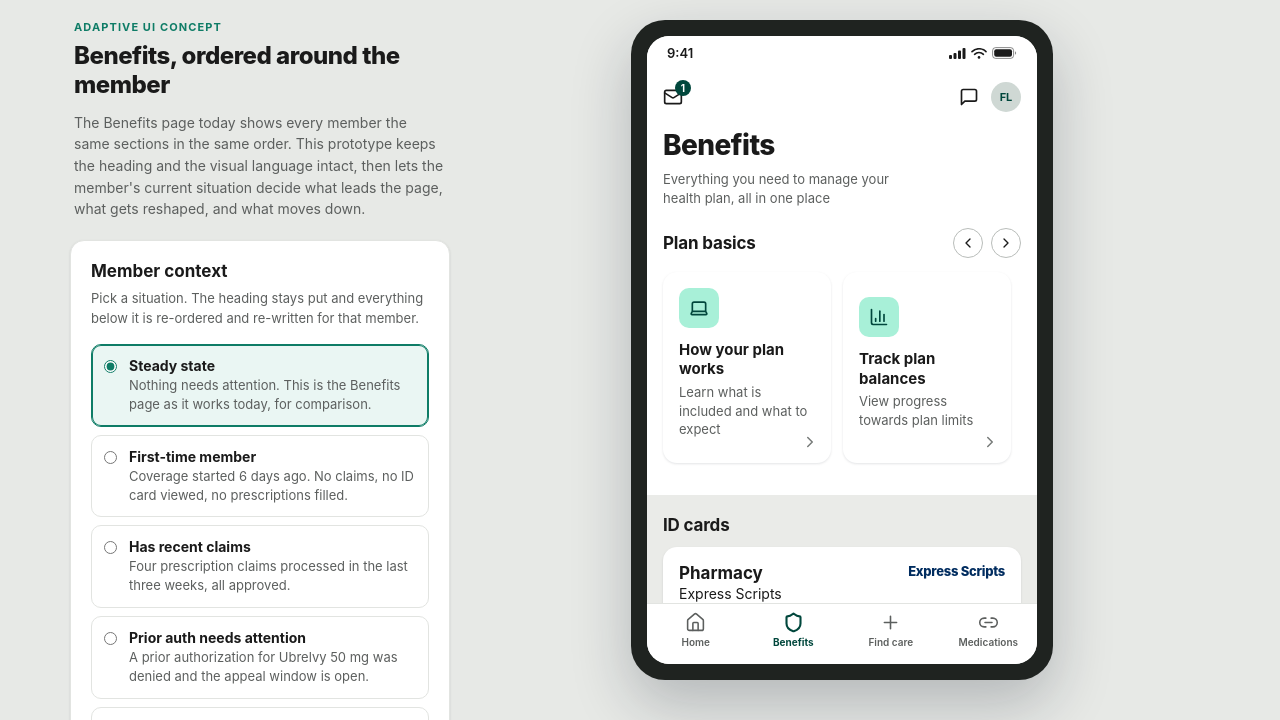
Test: App › previews claims as compact rows, leaving the per-claim detail on the sub-page
What coordinates should you click on to do the following:
click the radio button labelled "Has recent claims"
I would click on:
 (110, 548)
Its box is [104,541,117,554].
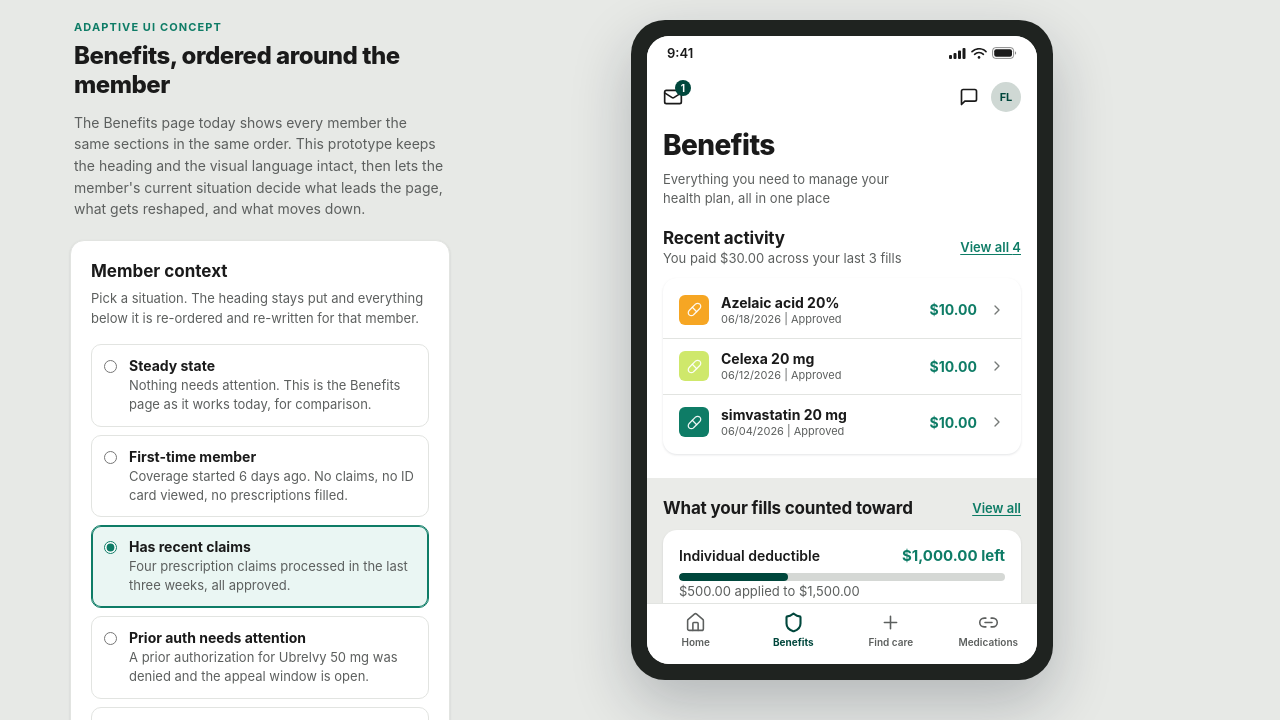
Result: the number of buttons with class "claims__row" is 3 at [663,282,1021,338]; [663,338,1021,394]; [663,394,1021,450]
Result: the button "View all 4" is shown at [960,239,1021,255]
